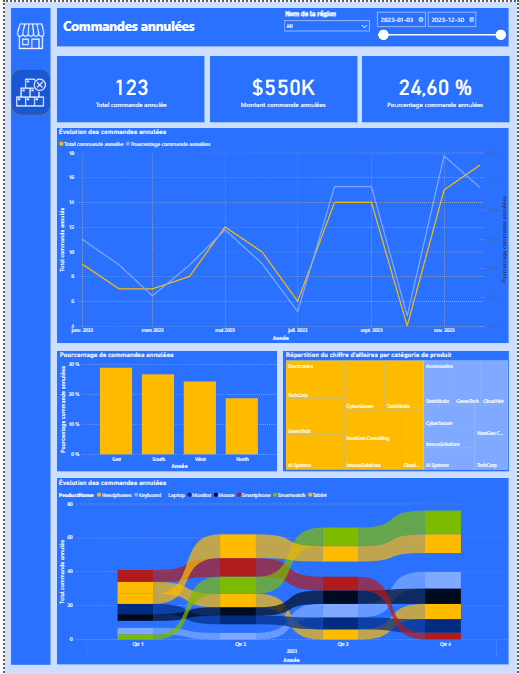

Layout of this report page (visuals, bound fields, positions):
{"tool":"powerbi","page":{"name":"Ventes annulées","canvas":[1280,2000],"ordinal":1},"visuals":[{"type":"shape","box":[14.8,14.8,98.6,1642.4],"z":0},{"type":"shape","box":[130.7,14.8,1129.5,96.2],"z":1000},{"type":"shape","box":[130.7,315.7,1129.5,537.6],"z":2000},{"type":"shape","box":[130.7,873,549.9,300.9],"z":3000},{"type":"shape","box":[695.4,873,564.7,300.9],"z":4000},{"type":"shape","box":[130.7,1191.1,1129.5,466.1],"z":5000},{"type":"textbox","box":[130,31.4,358.6,64.3],"z":6000},{"type":"shape","box":[130,135.7,368.6,165.7],"z":7000},{"type":"lineChart","title":"Évolution des commandes annulées","fields":{"Y":["Mesure.Total commande annulée"],"Y2":["Mesure.Pourcentage commande annulées"],"Category":["Ventes.OrderDate.Variation.Date Hierarchy.Year","Ventes.OrderDate.Variation.Date Hierarchy.Quarter","Ventes.OrderDate.Variation.Date Hierarchy.Month"]},"box":[130,315,1130,538.3],"z":8000},{"type":"clusteredColumnChart","title":"Pourcentage de commandes annulées","fields":{"Category":["Region.RegionName"],"Y":["Mesure.Pourcentage commande annulées"]},"box":[131.2,872.5,550,301.2],"z":9000},{"type":"treemap","title":"Répartition du chiffre d''affaires par catégorie de produit","fields":{"Group":["Produit.Category"],"Values":["Mesure.Total ventes"],"Details":["Client.CompanyName"]},"box":[696.2,872.5,563.8,301.2],"z":10000},{"type":"slicer","fields":{"Values":["Region.RegionName"]},"box":[688.6,15.7,234.3,94.3],"z":11000},{"type":"slicer","fields":{"Values":["Ventes.OrderDate"]},"box":[918.6,15.7,342.9,95.7],"z":12000},{"type":"shape","box":[511.4,135.7,368.6,165.7],"z":13000},{"type":"shape","box":[891.4,135.7,368.6,165.7],"z":14000},{"type":"card","fields":{"Values":["Mesure.Total commande annulée"]},"box":[131.4,135.7,367.1,165.7],"z":15000},{"type":"card","fields":{"Values":["Mesure.Montant commande annulées"]},"box":[512.9,135.7,367.1,165.7],"z":16000},{"type":"card","fields":{"Values":["Client.Pourcentage commande annulées"]},"box":[892.9,135.7,367.1,165.7],"z":17000},{"type":"ribbonChart","title":"Évolution des commandes annulées","fields":{"Category":["Ventes.OrderDate.Variation.Date Hierarchy.Year","Ventes.OrderDate.Variation.Date Hierarchy.Quarter","Ventes.OrderDate.Variation.Date Hierarchy.Month"],"Y":["Mesure.Total commande annulée"],"Series":["Produit.ProductName"]},"box":[130,1191.4,1130,465.7],"z":18000},{"type":"image","box":[14.3,14.3,98.6,141.4],"z":19000},{"type":"shape","box":[14.3,167.1,98.6,115.7],"z":19500},{"type":"image","box":[14.3,155.7,98.6,142.9],"z":20000}]}

Visuals, with their boxes on the page's 1280x2000 design canvas (x1, y1, x2, y2). These are canvas units, not pixel positions in the 519x674 screenshot, which may show the page scaled, cropped or inside an application window:
shape: x1=15, y1=15, x2=113, y2=1657
shape: x1=131, y1=15, x2=1260, y2=111
shape: x1=131, y1=316, x2=1260, y2=853
shape: x1=131, y1=873, x2=681, y2=1174
shape: x1=695, y1=873, x2=1260, y2=1174
shape: x1=131, y1=1191, x2=1260, y2=1657
textbox: x1=130, y1=31, x2=489, y2=96
shape: x1=130, y1=136, x2=499, y2=301
"Évolution des commandes annulées" lineChart: x1=130, y1=315, x2=1260, y2=853
"Pourcentage de commandes annulées" clusteredColumnChart: x1=131, y1=872, x2=681, y2=1174
"Répartition du chiffre d''affaires par catégorie de produit" treemap: x1=696, y1=872, x2=1260, y2=1174
slicer - Region.RegionName: x1=689, y1=16, x2=923, y2=110
slicer - Ventes.OrderDate: x1=919, y1=16, x2=1262, y2=111
shape: x1=511, y1=136, x2=880, y2=301
shape: x1=891, y1=136, x2=1260, y2=301
card - Mesure.Total commande annulée: x1=131, y1=136, x2=498, y2=301
card - Mesure.Montant commande annulées: x1=513, y1=136, x2=880, y2=301
card - Client.Pourcentage commande annulées: x1=893, y1=136, x2=1260, y2=301
"Évolution des commandes annulées" ribbonChart: x1=130, y1=1191, x2=1260, y2=1657
image: x1=14, y1=14, x2=113, y2=156
shape: x1=14, y1=167, x2=113, y2=283
image: x1=14, y1=156, x2=113, y2=299
